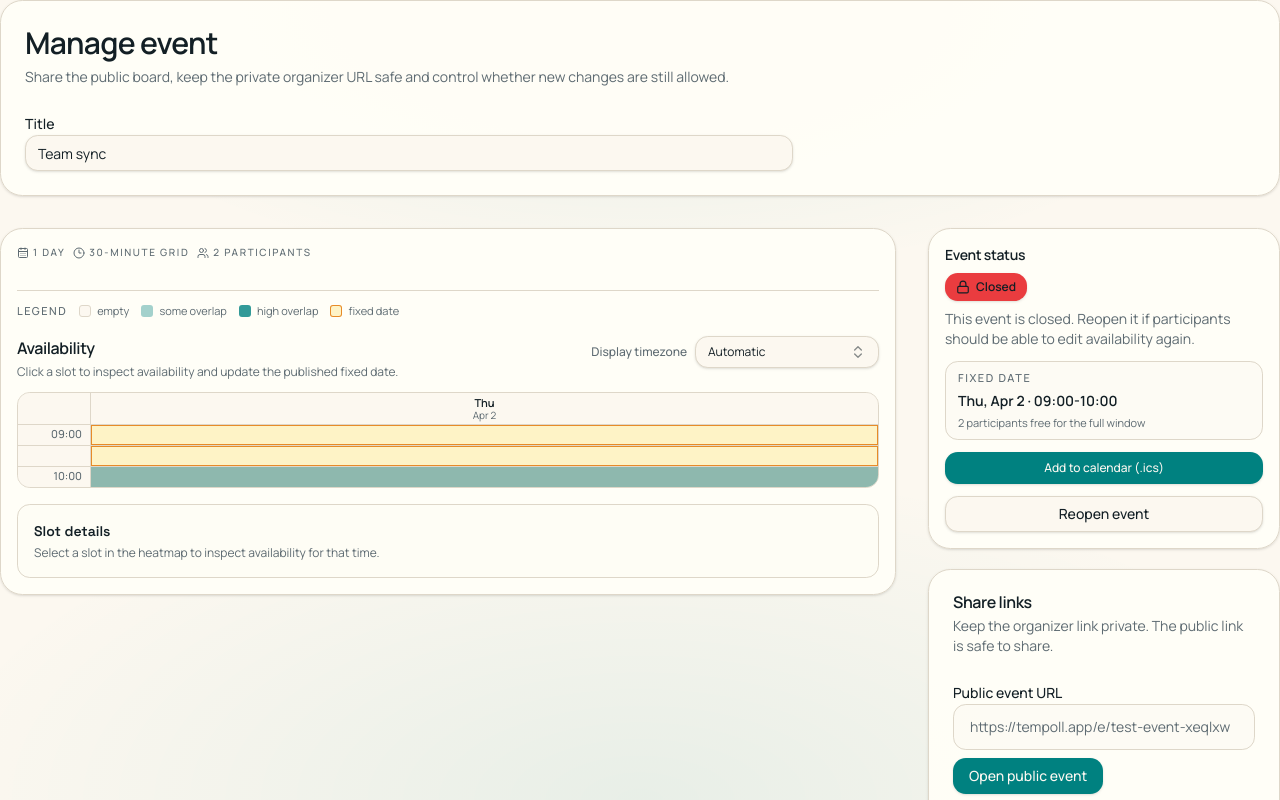
Test case: ManageEventClient › updates the published fixed date directly on closed events
This screenshot has width=1280, height=800.
Click the button named "Thu, Apr 2 09:30 · 2/2 available". click: (484, 456)
box: x1=91 y1=446 x2=878 y2=466
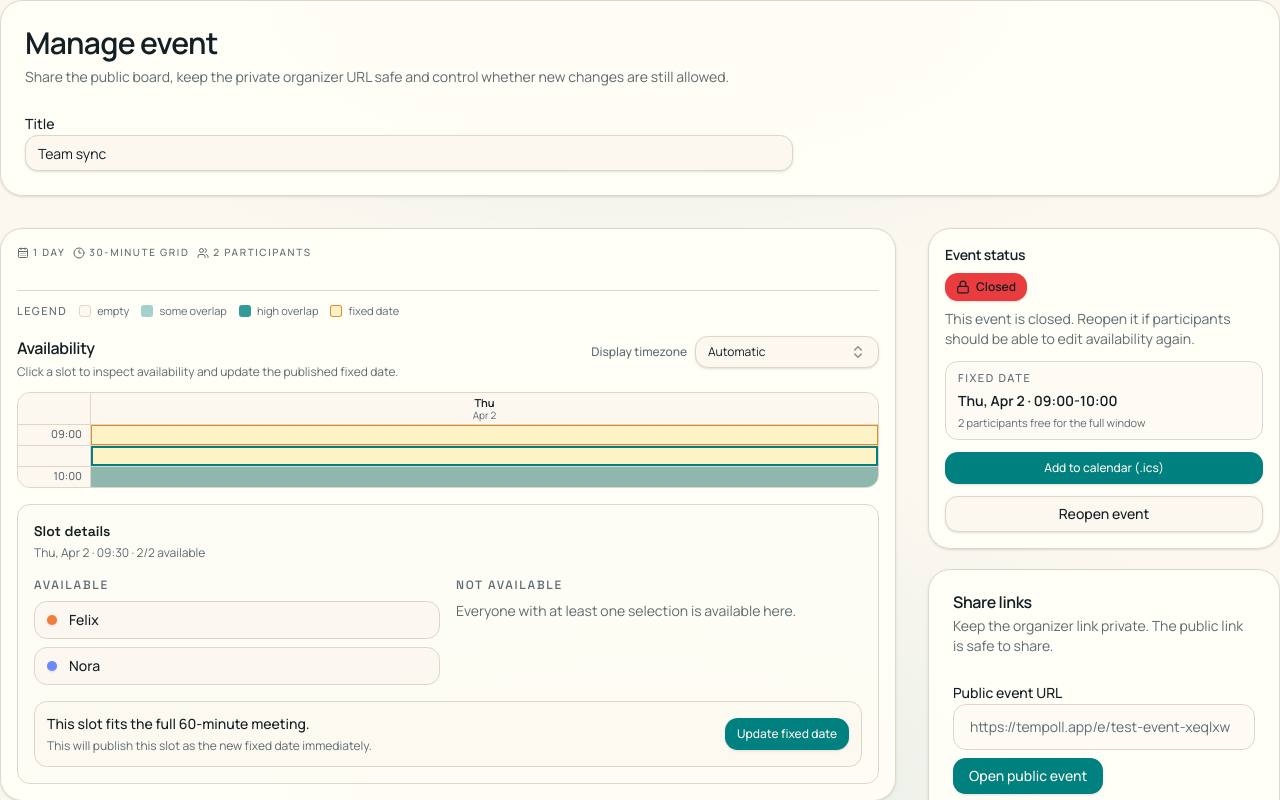
Now the button "Update fixed date" is shown
Click the button "Update fixed date". click: (787, 734)
box: x1=725 y1=718 x2=849 y2=750
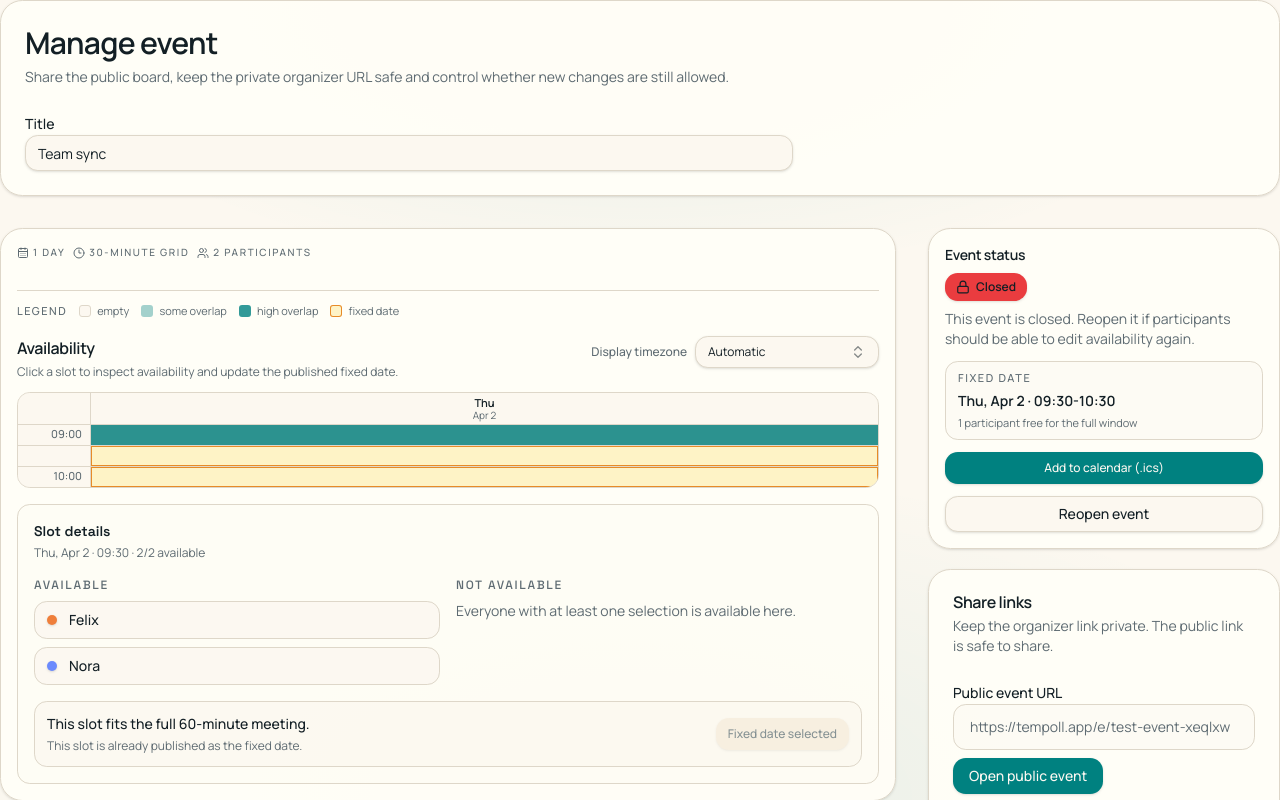
Now the text "Thu, Apr 2 · 09:30-10:30" is shown, box x1=958 y1=390 x2=1116 y2=410
